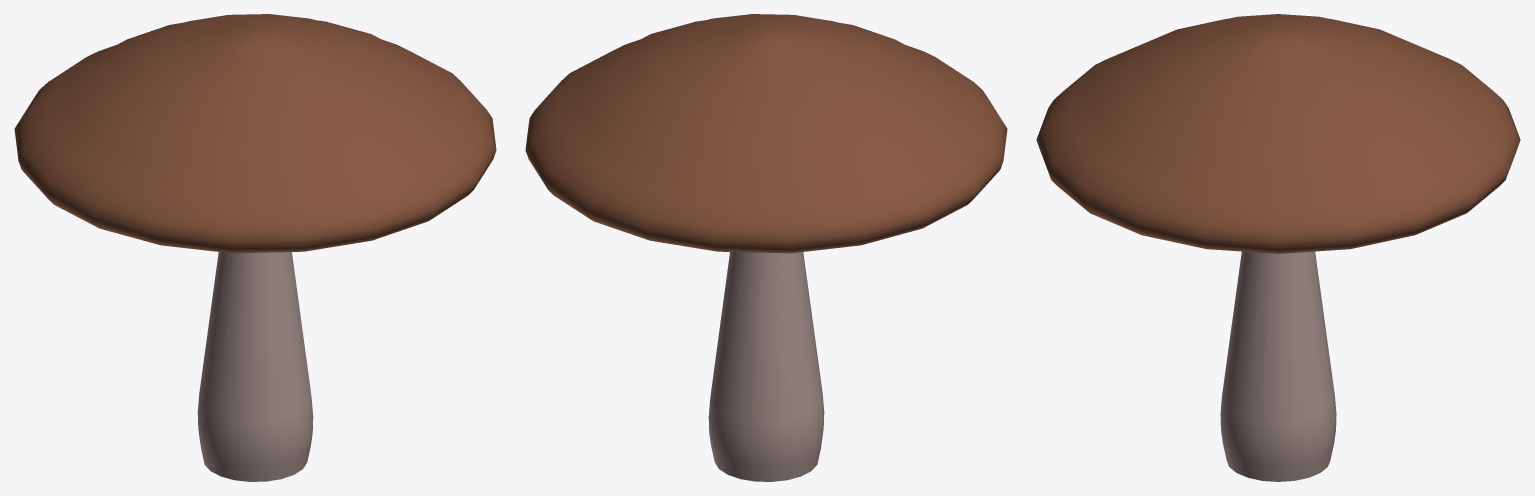
The model's file is Mesh_Mushroom_02.fbx.
The picture shows the model from 3 angles, left to right: view 1: azimuth 30°, elevation 25°; view 2: azimuth 150°, elevation 25°; view 3: azimuth 270°, elevation 25°; orthographic projection.
Visible parts, largest first — view 1: Roundtop_mushroom; view 2: Roundtop_mushroom; view 3: Roundtop_mushroom.
Part boxes in pixels (x1=…): Roundtop_mushroom: x1=14, y1=14, x2=496, y2=481; Roundtop_mushroom: x1=525, y1=14, x2=1007, y2=481; Roundtop_mushroom: x1=1036, y1=14, x2=1520, y2=481.
Size of the model in its own units: 35.24 by 34.27 by 35.24.
